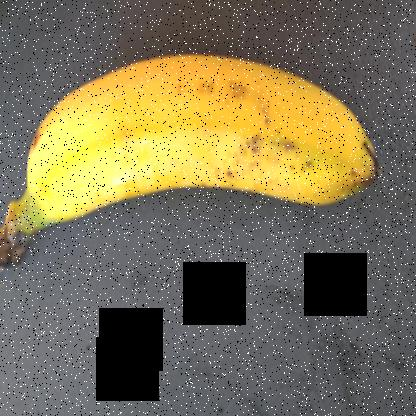ripe: (19, 28, 385, 232)
